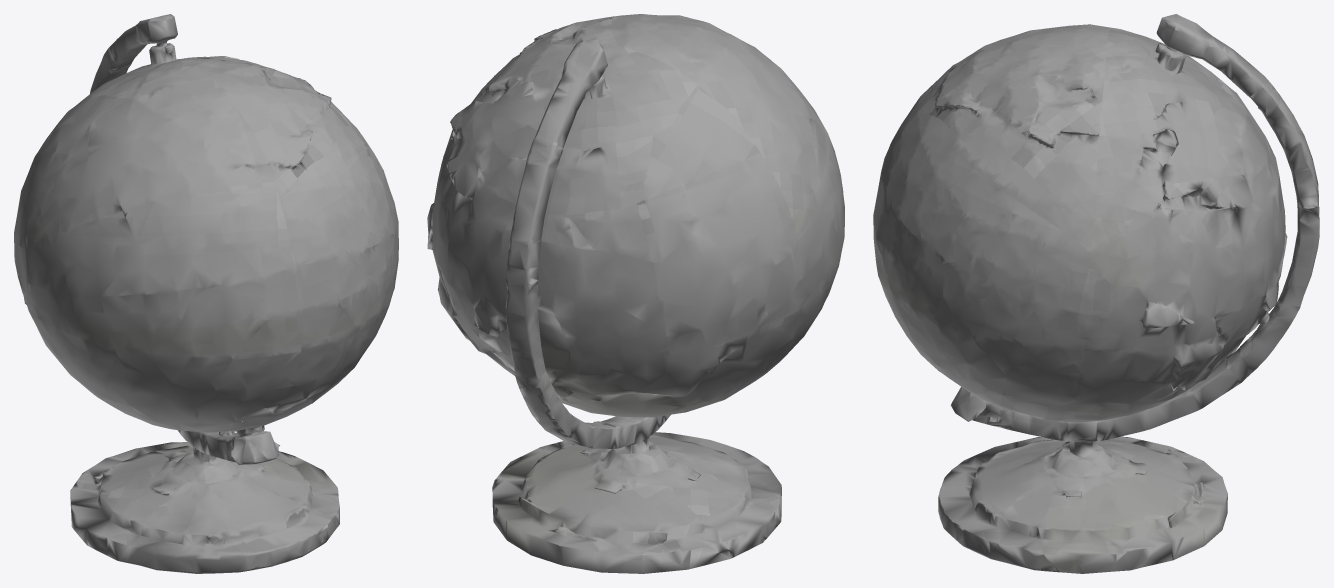
The model's file is l_globe.glb.
The picture shows the model from 3 angles, left to right: view 1: azimuth 30°, elevation 25°; view 2: azimuth 150°, elevation 25°; view 3: azimuth 270°, elevation 25°; orthographic projection. The views are drawn at different scales.
Visible parts, largest first — view 1: tripo_node_2fabc366-60e8-439b-a3f0-35c9088edc04; view 2: tripo_node_2fabc366-60e8-439b-a3f0-35c9088edc04; view 3: tripo_node_2fabc366-60e8-439b-a3f0-35c9088edc04.
Part boxes in pixels (left/top/right/bottom): tripo_node_2fabc366-60e8-439b-a3f0-35c9088edc04: left=14, top=14, right=398, bottom=573; tripo_node_2fabc366-60e8-439b-a3f0-35c9088edc04: left=427, top=14, right=844, bottom=573; tripo_node_2fabc366-60e8-439b-a3f0-35c9088edc04: left=873, top=14, right=1319, bottom=573.
Size of the model in its own units: 0.7376 by 0.9992 by 0.8147.
Materials: 1 (1 with a texture image).
